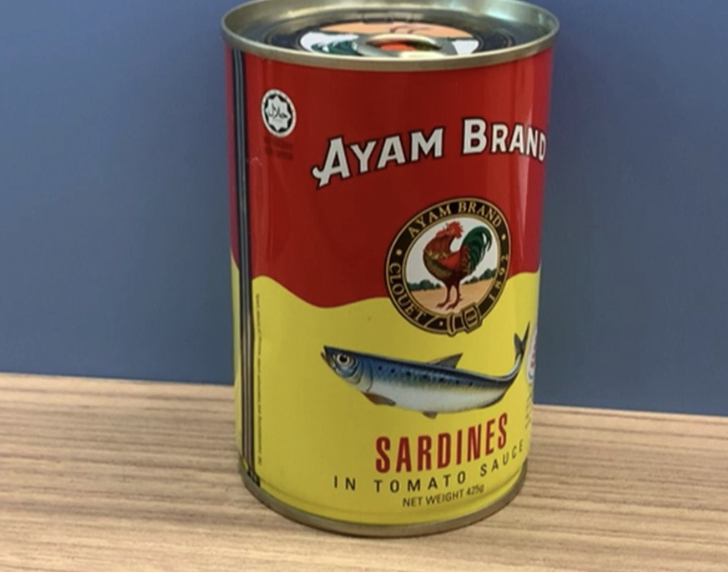sardines_450g: (242, 36, 525, 496)
